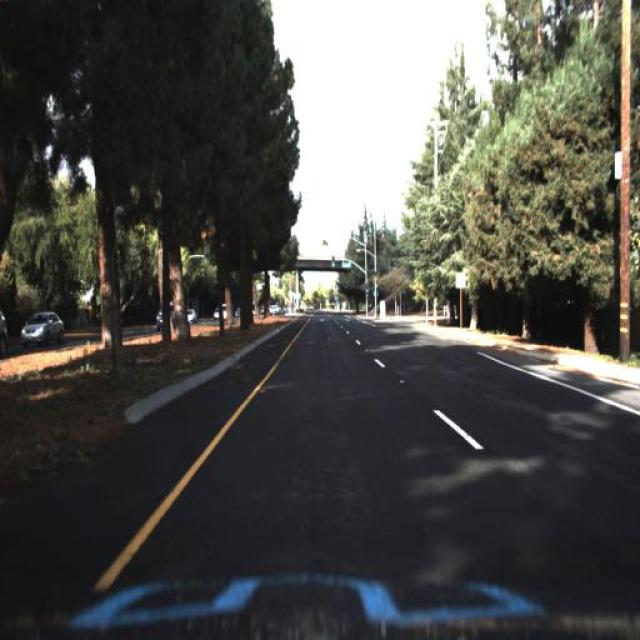car: (21, 308, 65, 351)
